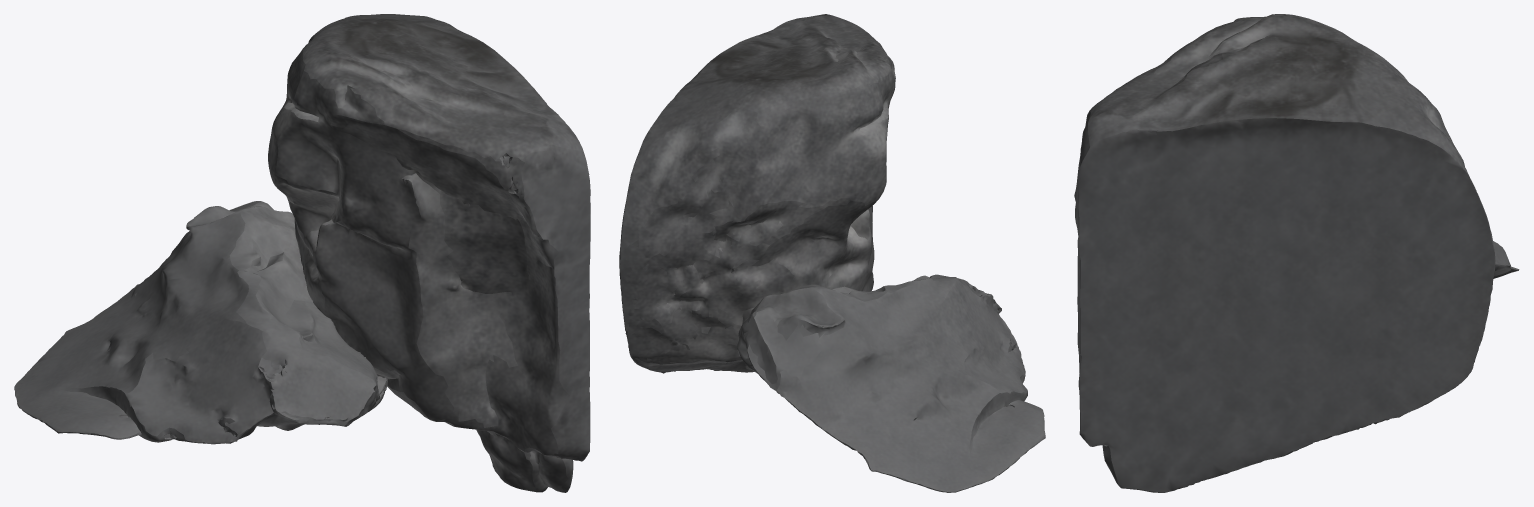
3 views of the same model, side by side, from view 1: azimuth 30°, elevation 25°; view 2: azimuth 150°, elevation 25°; view 3: azimuth 270°, elevation 25° (orthographic). The views are drawn at different scales.
Visible parts, largest first — view 1: world; view 2: world; view 3: world.
Part boxes in pixels (x1,y1,x2,y2): world: [14, 14, 590, 492]; world: [619, 14, 1045, 492]; world: [1074, 14, 1519, 492].
Size of the model in its own units: 50 by 49.99 by 49.56.
1 material, 1 textured.
